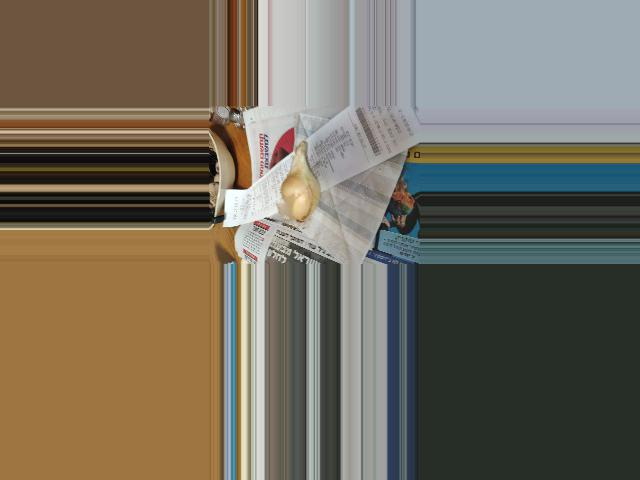onion: (281, 152, 318, 220)
